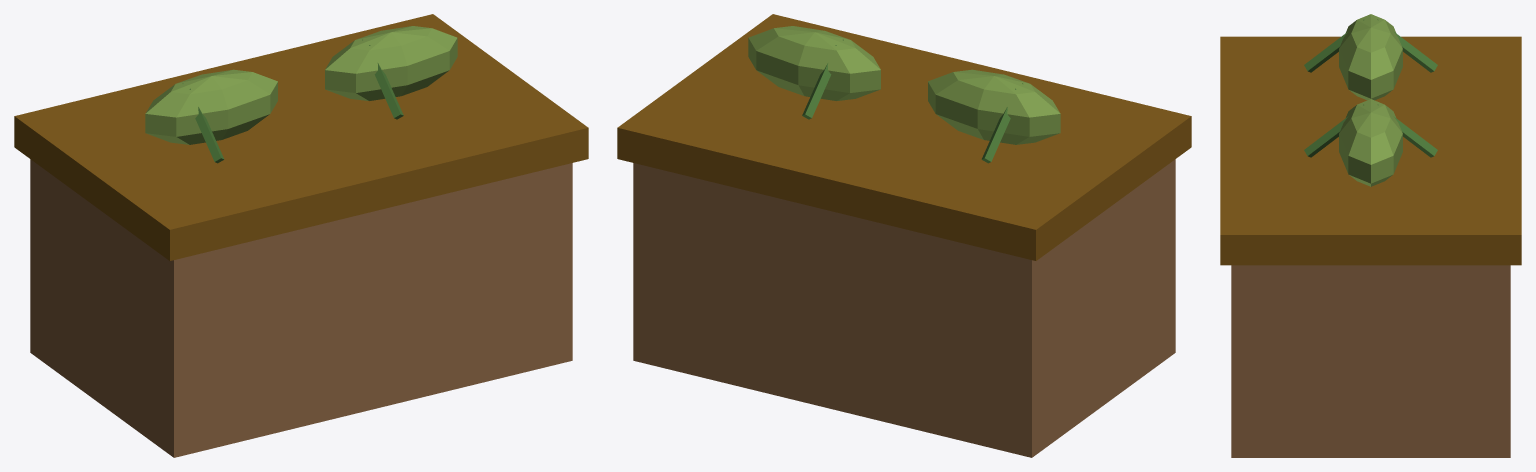
File: bait-cricket.glb
The picture shows the model from 3 angles, left to right: view 1: azimuth 30°, elevation 25°; view 2: azimuth 150°, elevation 25°; view 3: azimuth 270°, elevation 25°; orthographic projection. The views are drawn at different scales.
Visible parts, largest first — view 1: bait-cricket; view 2: bait-cricket; view 3: bait-cricket.
Part boxes in pixels (box(x1,y1,x2,y2)): bait-cricket: box(14, 14, 588, 457); bait-cricket: box(617, 14, 1191, 457); bait-cricket: box(1220, 14, 1521, 457).
Bounding box in the file's own units: 0.84 × 0.58 × 0.54.
